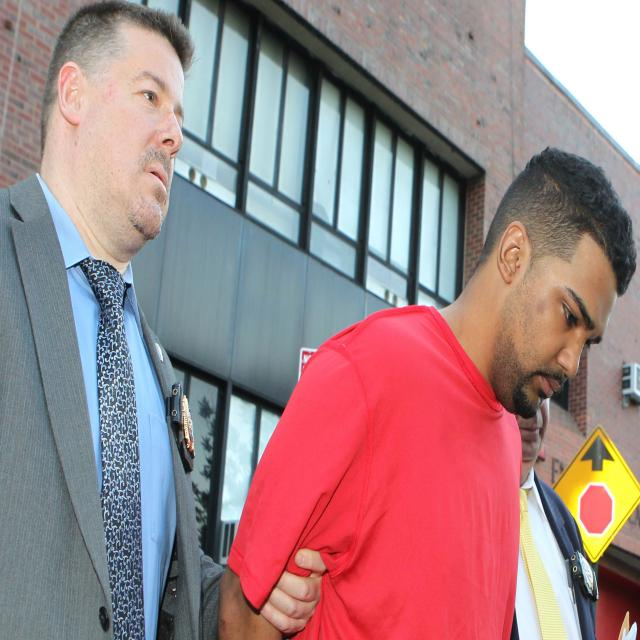body: (0, 0, 336, 640), (212, 141, 640, 640), (508, 398, 600, 640)
